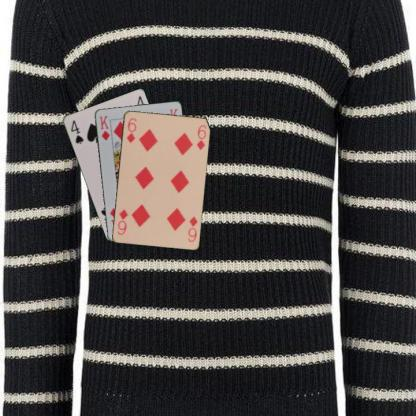4s: (69, 117, 84, 145)
6d: (124, 115, 138, 144), (185, 214, 199, 243)
Kd: (96, 113, 111, 142)
